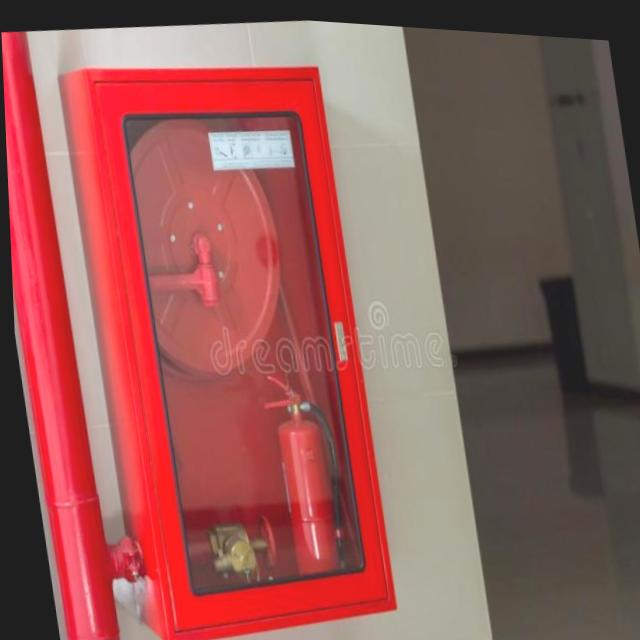FireExtinguisher: (248, 354, 358, 597)
